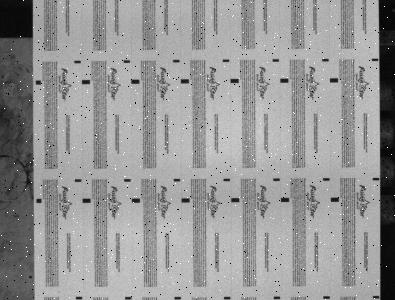backgroundclutter: (29, 275, 32, 278)
qblock: (82, 198, 91, 203), (330, 197, 339, 202), (131, 79, 140, 84), (280, 78, 289, 83), (132, 198, 140, 203), (281, 197, 289, 202), (82, 79, 90, 84), (181, 79, 189, 84), (181, 198, 190, 202), (231, 198, 240, 202), (230, 79, 239, 83), (330, 78, 338, 82), (35, 80, 41, 85), (36, 198, 42, 203)
smallqblock: (173, 59, 180, 63), (222, 59, 230, 62), (173, 178, 181, 181), (75, 296, 83, 299), (372, 177, 380, 180), (74, 60, 81, 63), (223, 178, 230, 181), (273, 178, 280, 181), (123, 60, 130, 63), (322, 58, 329, 61), (75, 179, 82, 182), (124, 179, 131, 182), (323, 178, 330, 181), (272, 59, 279, 62), (273, 296, 280, 299), (372, 58, 379, 61), (125, 296, 132, 299), (174, 296, 181, 299), (224, 296, 231, 299), (323, 296, 330, 299), (373, 295, 380, 298)
